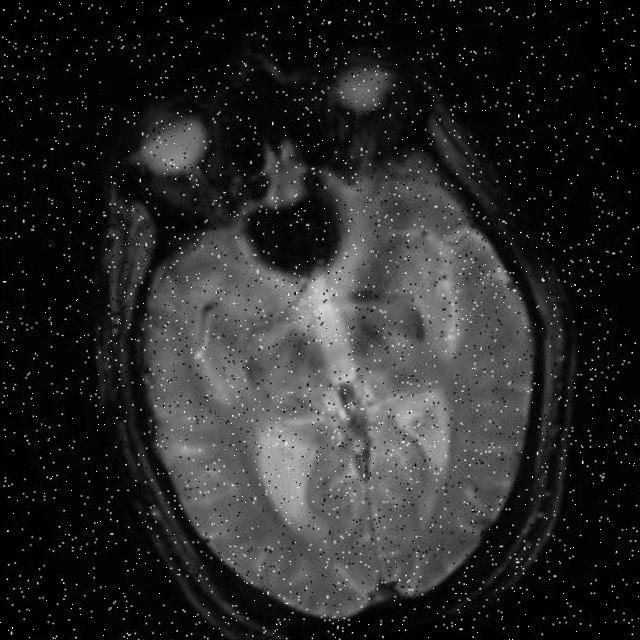EMCI: (223, 157, 369, 304)
